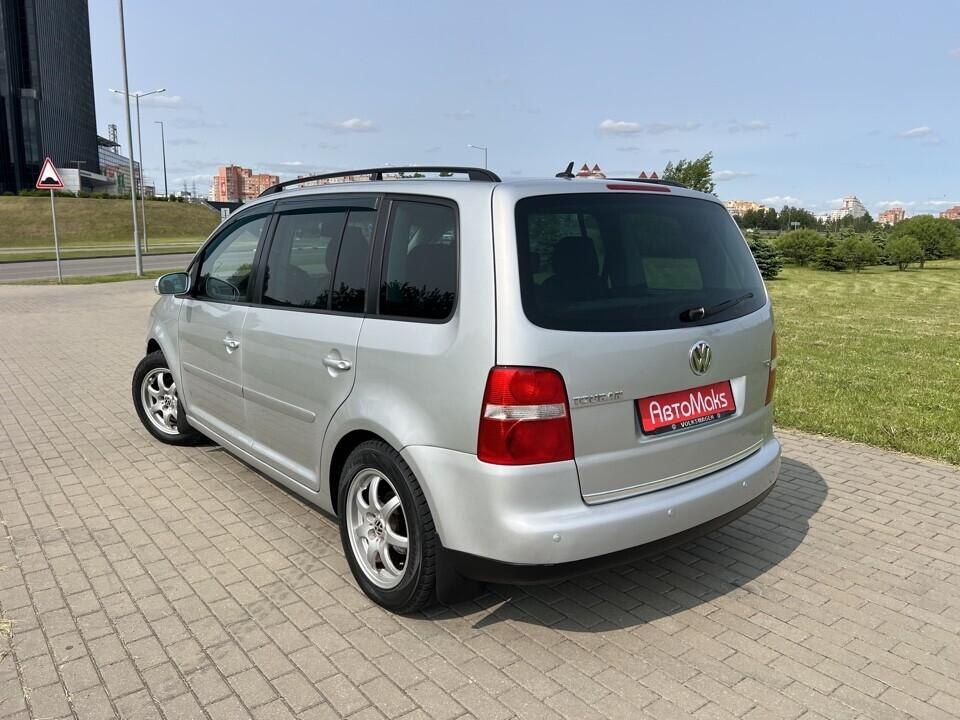Touran_2003-2006: (135, 171, 785, 616)
